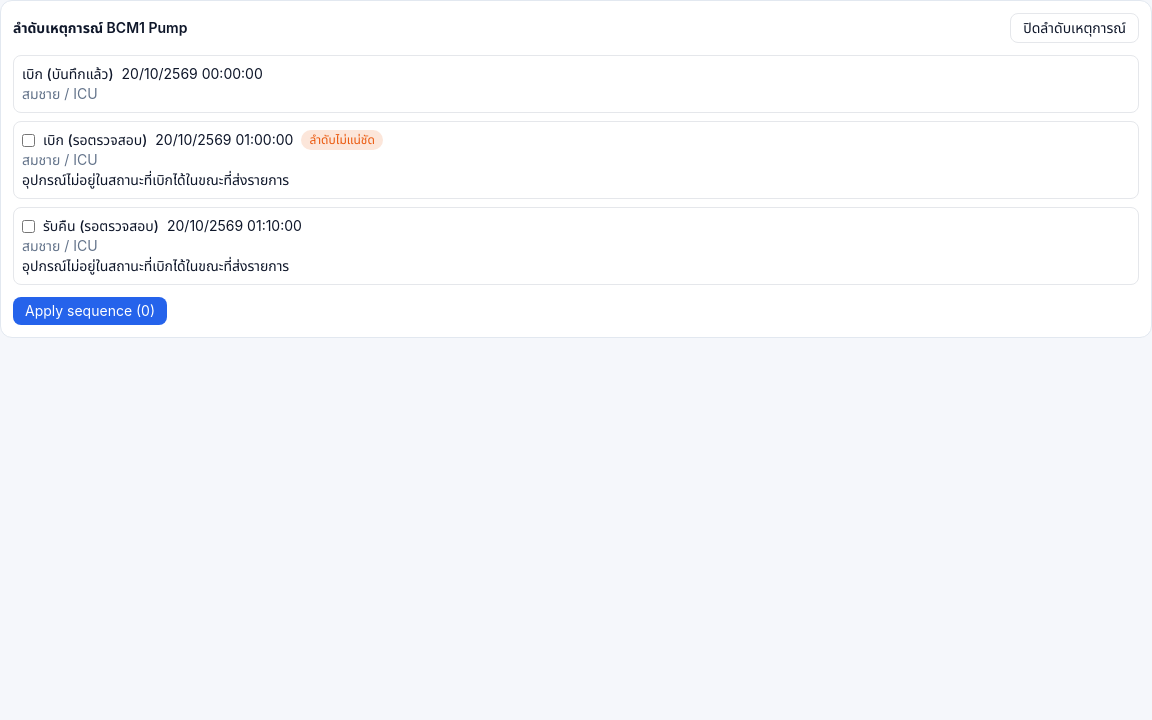
Test case: SyncTimelinePanel › confirms the ordered list in timeline order, then applies
The image size is (1152, 720).
Step 1. Click the checkbox named "เลือก รับคืน 20/10/2569 01:10:00" → (28, 226), box [22, 220, 35, 232]
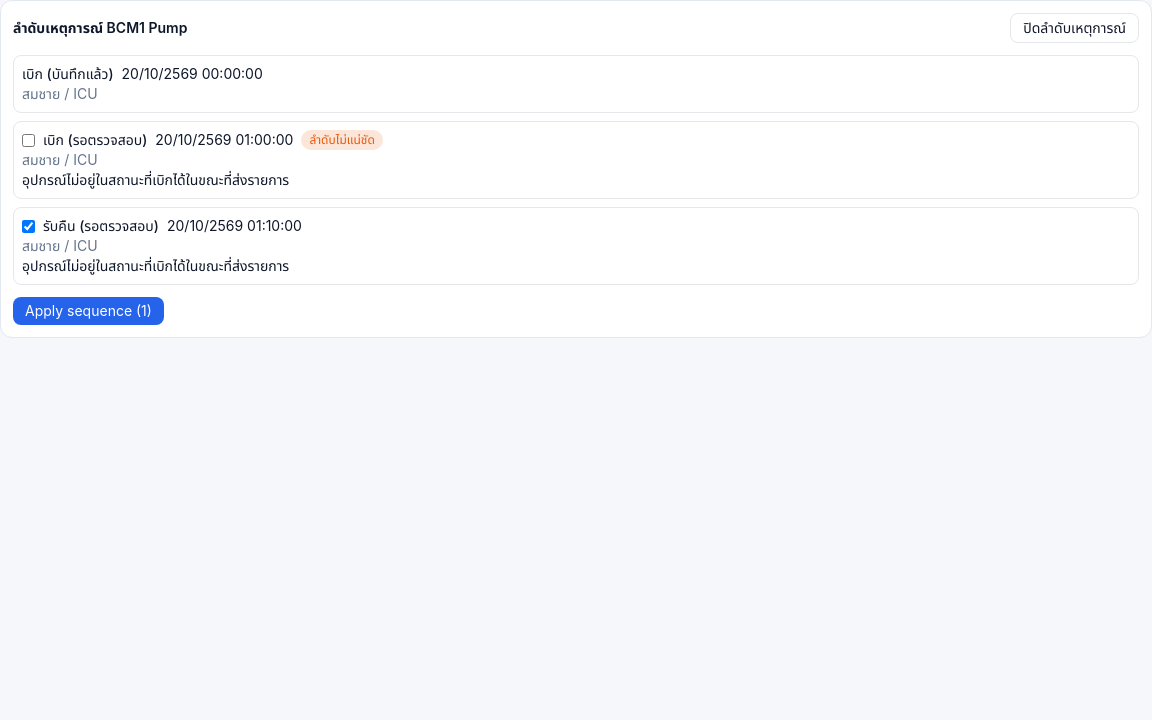
Step 2. Click the checkbox named "เลือก เบิก 20/10/2569 01:00:00" → (28, 140), box [22, 134, 35, 146]
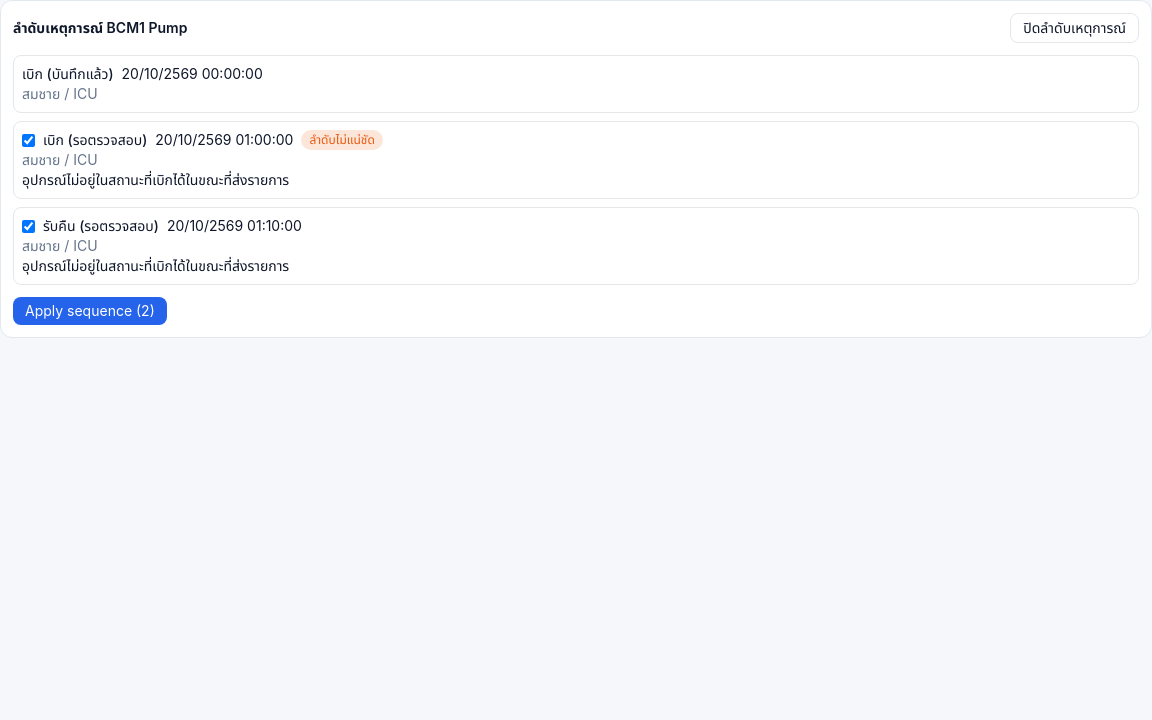
Step 3. Click the button "Apply sequence (2)" → (90, 311), box [13, 297, 167, 325]
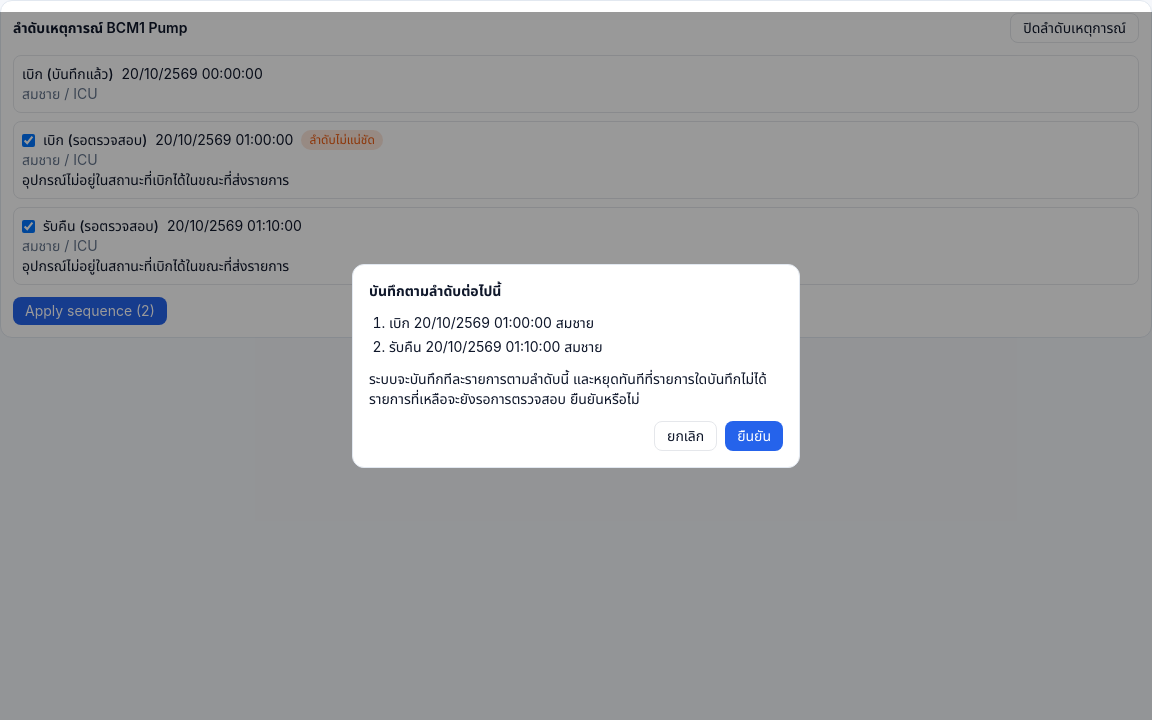
Check: the list item "เบิก 20/10/2569 01:00:00 สมชาย" is shown, box [389, 314, 594, 331]
Check: the list item "รับคืน 20/10/2569 01:10:00 สมชาย" is shown, box [389, 338, 603, 355]
Step 4. Click the button "ยืนยัน" → (754, 436), box [725, 421, 783, 451]
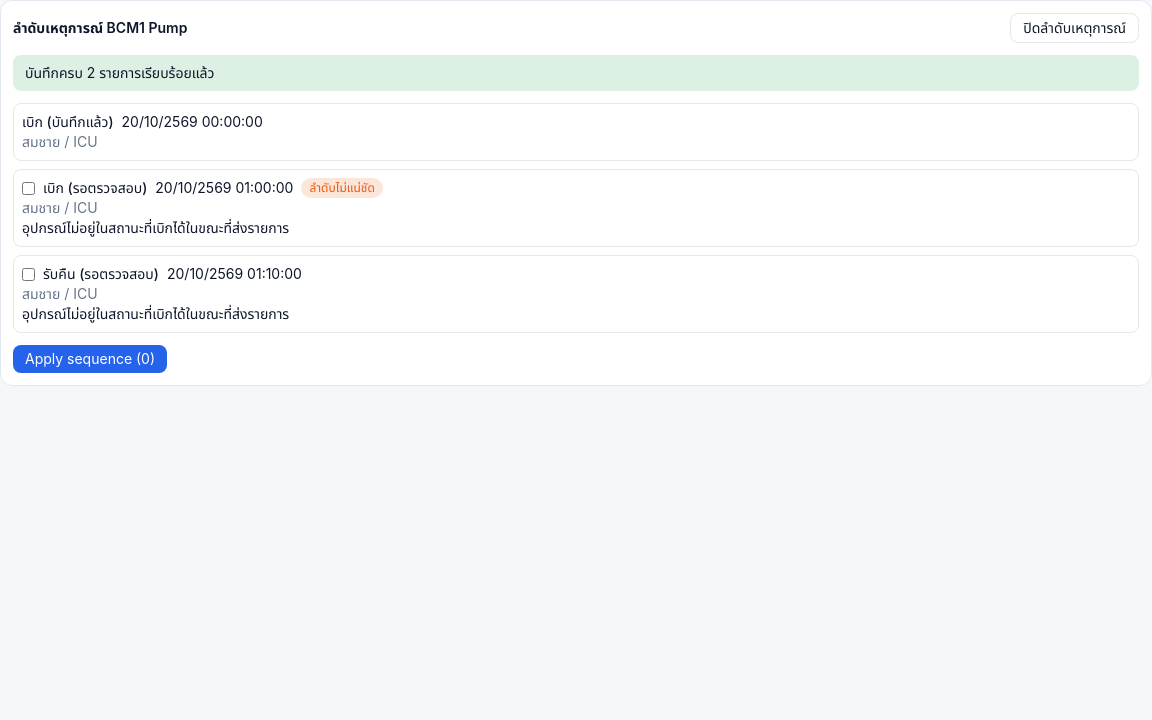
Check: the text "บันทึกครบ 2 รายการเรียบร้อยแล้ว" is shown, box [13, 55, 1139, 91]
